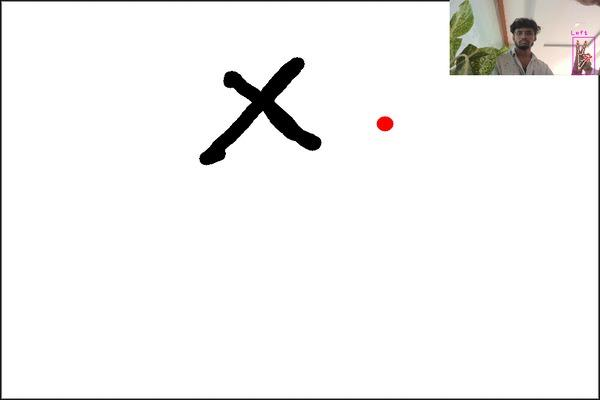X: (169, 46, 339, 193)
